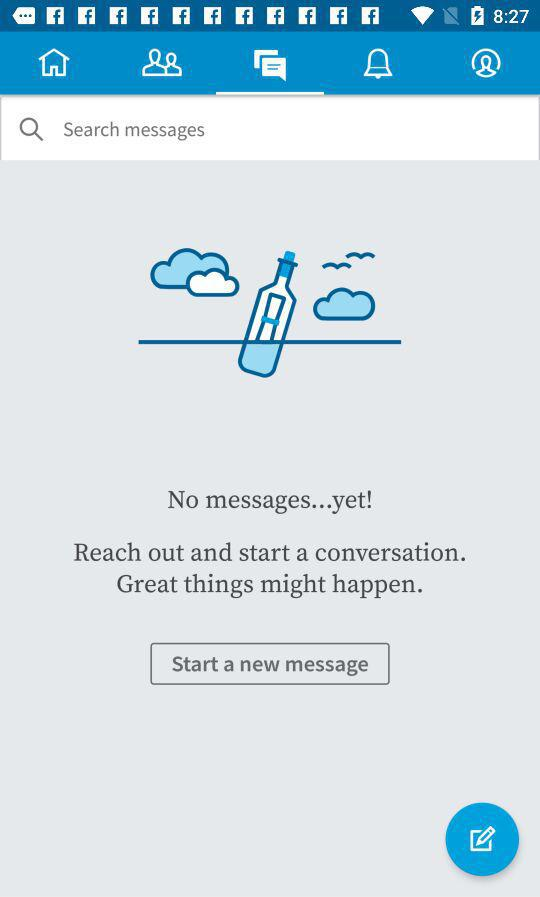Icon: (445, 802, 520, 877), (142, 49, 183, 78), (253, 50, 287, 83), (363, 48, 393, 81), (38, 48, 71, 78), (471, 48, 502, 79), (20, 118, 45, 143)
Image: (138, 247, 402, 379)
Text: (73, 541, 466, 600), (168, 490, 373, 516), (64, 121, 206, 142)
TextButton: (150, 642, 391, 686)
UpperTaskBar: (1, 1, 540, 33)
